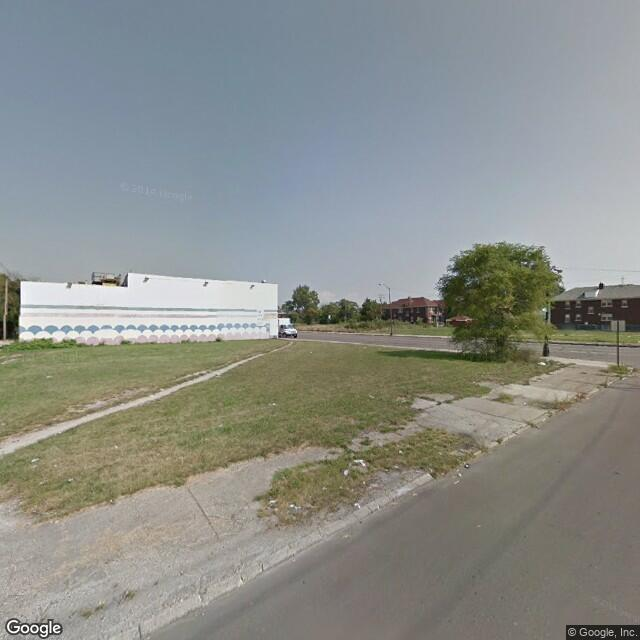litter: (354, 456, 364, 467), (538, 360, 549, 369), (353, 500, 361, 510), (464, 462, 469, 467)
